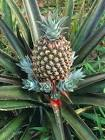Pineapple: (33, 11, 76, 84)
